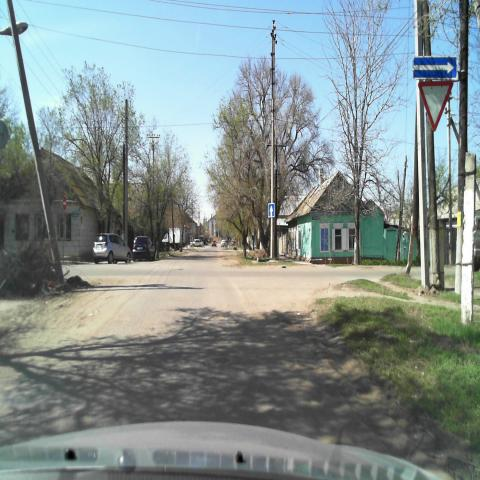5_7_1: (413, 57, 457, 78)
